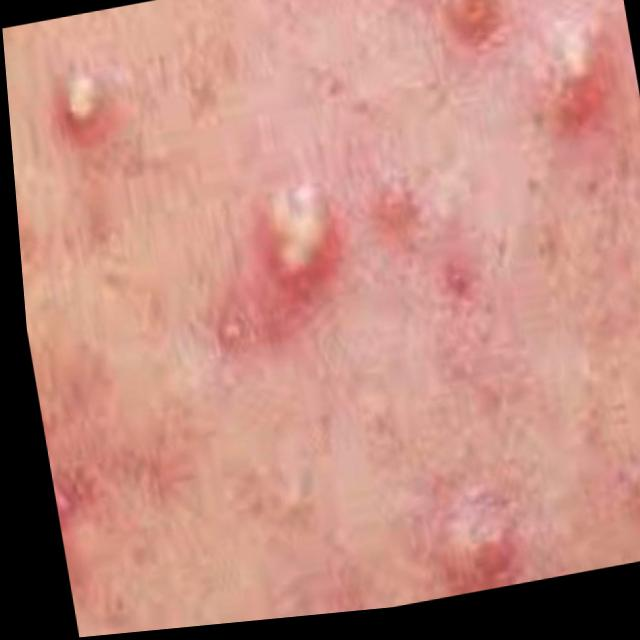pustule: (29, 15, 379, 368), (518, 0, 615, 160)
